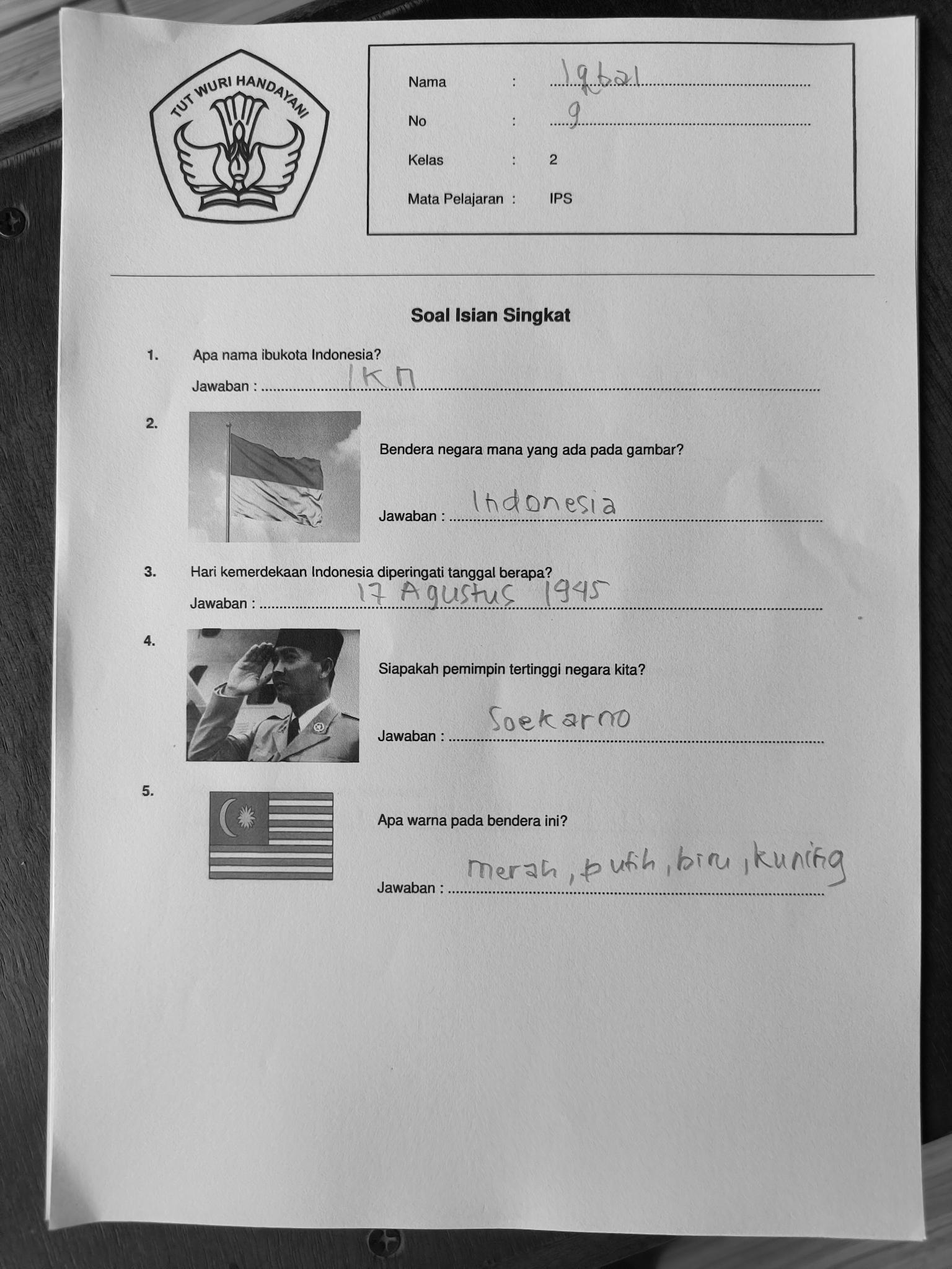soal-1: (135, 335, 851, 408)
soal-2: (138, 402, 851, 548)
soal-3: (135, 548, 847, 627)
soal-4: (133, 623, 846, 763)
soal-5: (135, 766, 859, 921)
